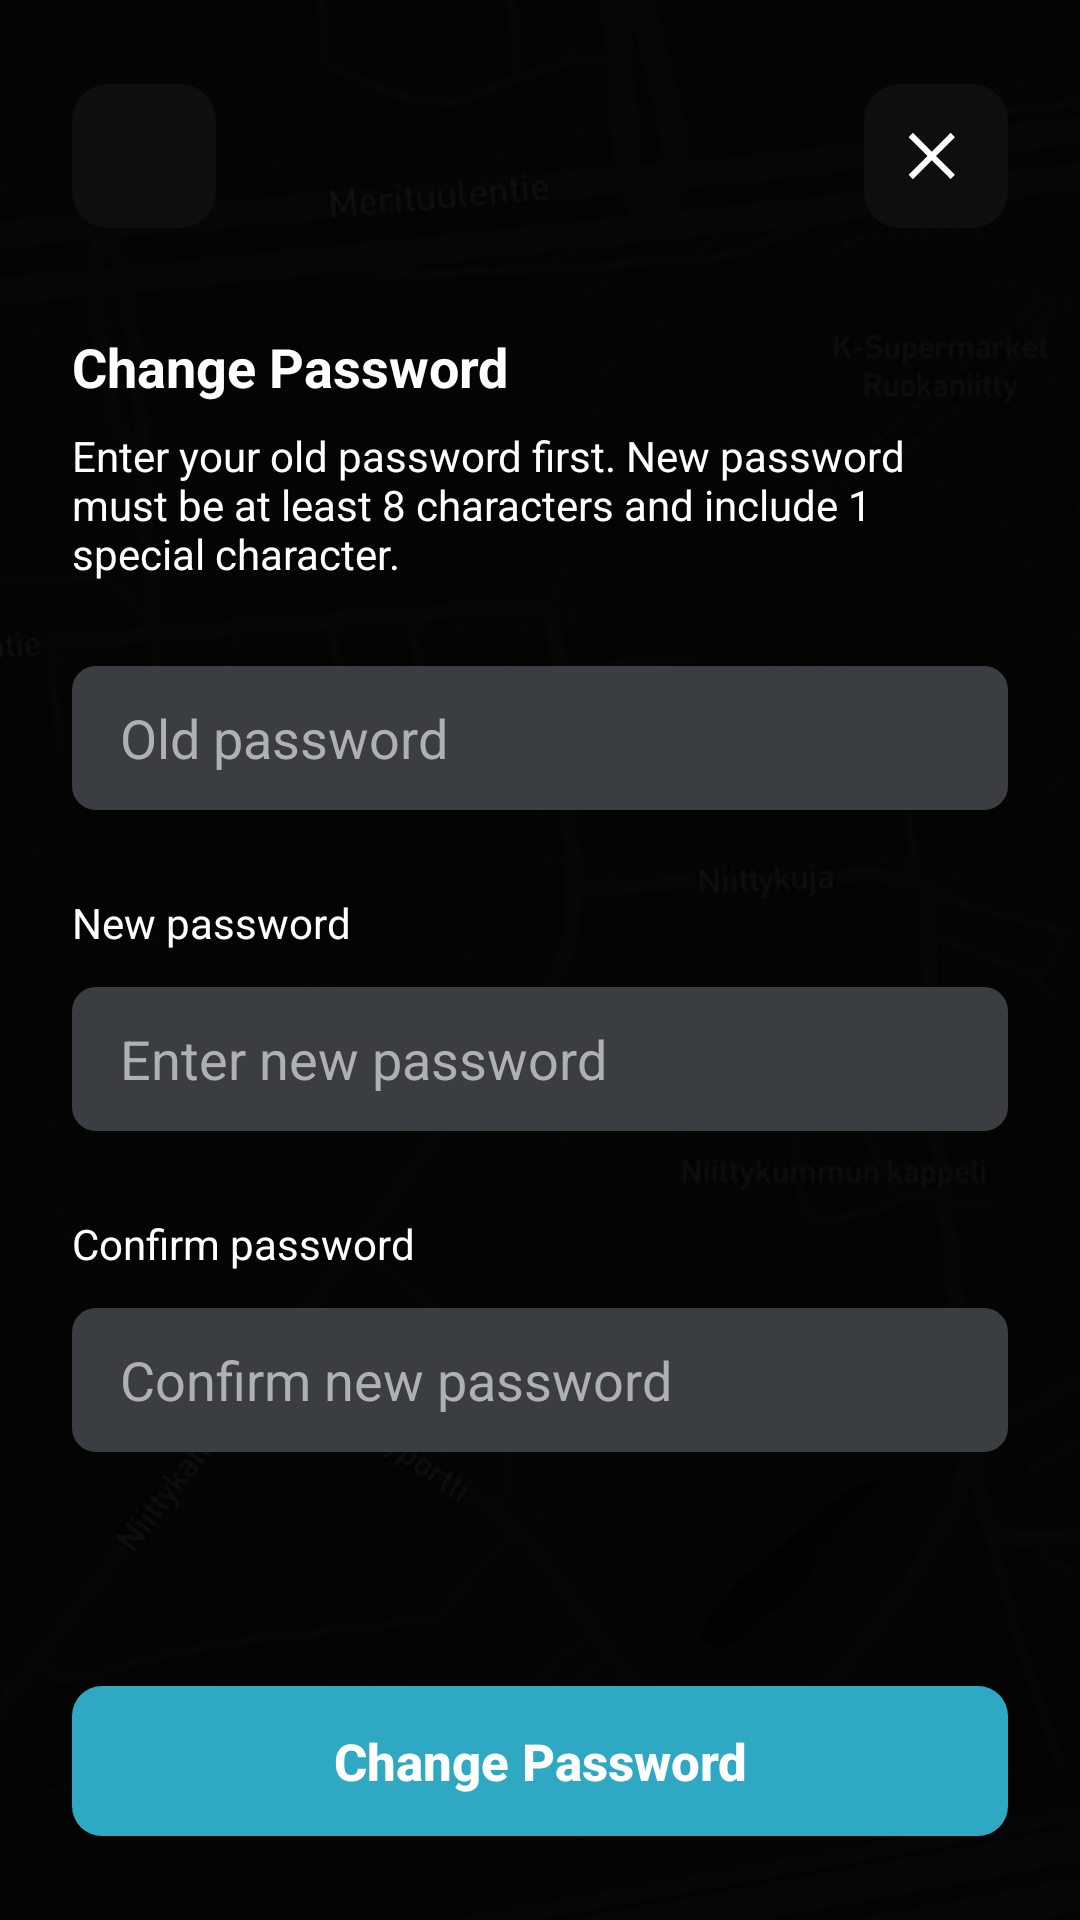

Screen size 1080px x 1920px. Icon name, then its box in pixels as (x1,y1,x2,y2):
Close: (908,133,955,179)
